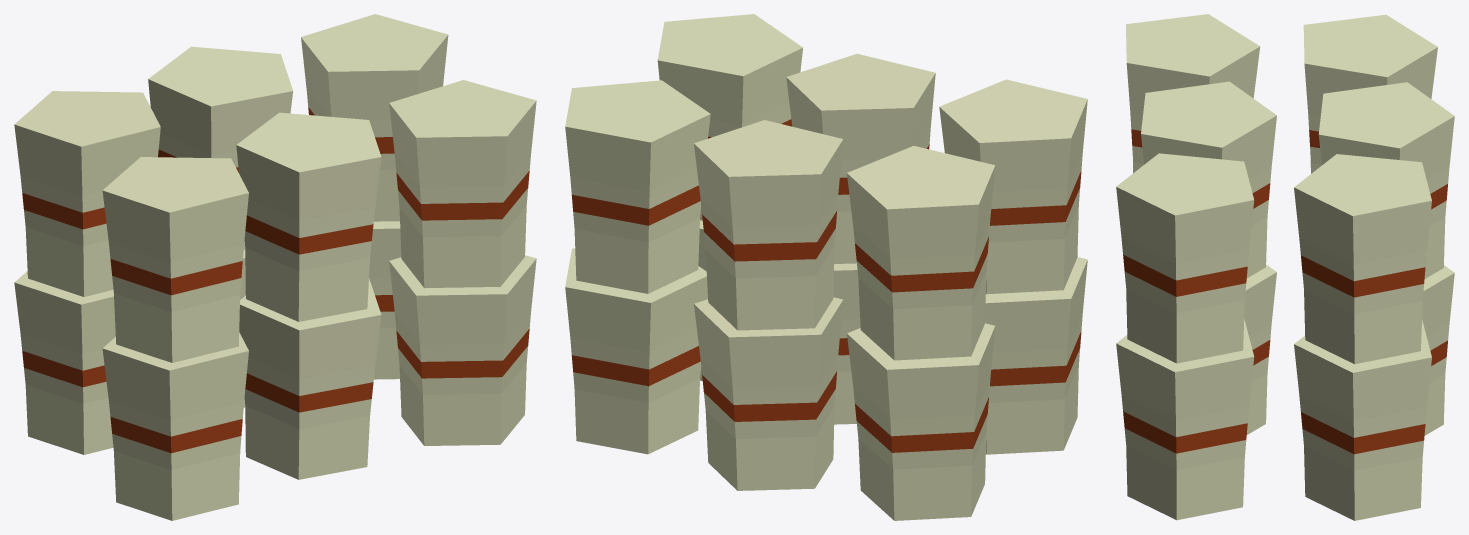
File: noodle cups.fbx
3 renders of one model, left to right at view 1: azimuth 30°, elevation 25°; view 2: azimuth 150°, elevation 25°; view 3: azimuth 270°, elevation 25°, orthographic. The views are drawn at different scales.
Parts seen in each view (by area): view 1: noodle cup; view 2: noodle cup; view 3: noodle cup.
Part boxes in pixels (x1=…): noodle cup: x1=14, y1=14, x2=536, y2=520; noodle cup: x1=565, y1=14, x2=1087, y2=520; noodle cup: x1=1116, y1=14, x2=1454, y2=520.
Bounding box in the file's own units: 34.04 × 24.04 × 24.54.
